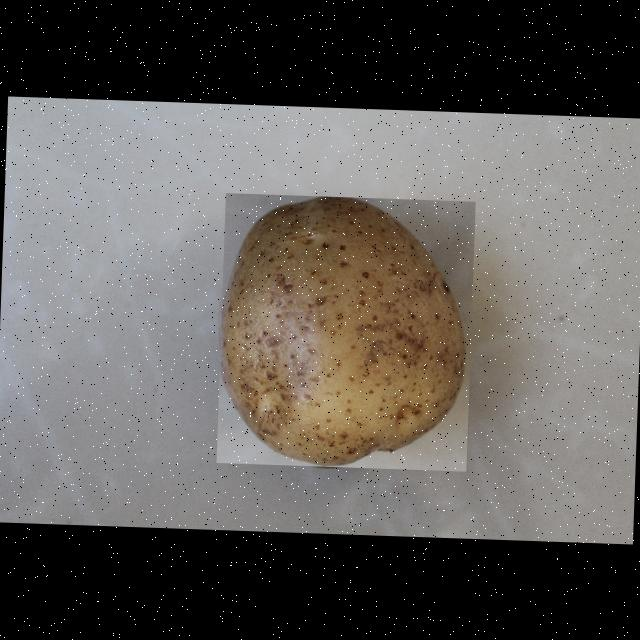Diseased-fungal potato: (216, 193, 475, 472)
